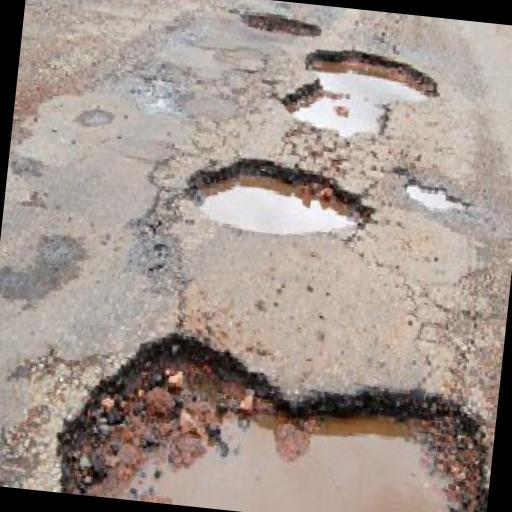pothole: (52, 317, 502, 512), (180, 146, 384, 243), (278, 40, 444, 144), (238, 9, 324, 40), (402, 177, 472, 213)
